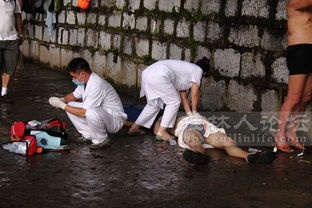falling: (162, 107, 285, 166)
